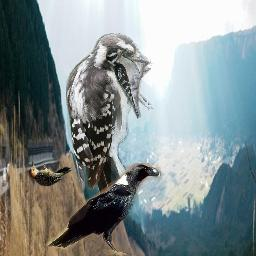Crow: (46, 163, 161, 255)
Woodpecker: (66, 33, 153, 203), (106, 48, 151, 119), (25, 159, 74, 187)
